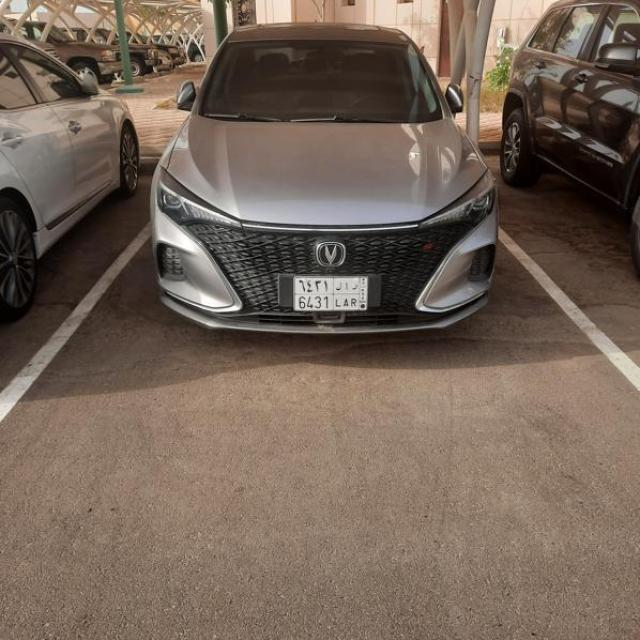license_plate: (294, 277, 368, 311)
